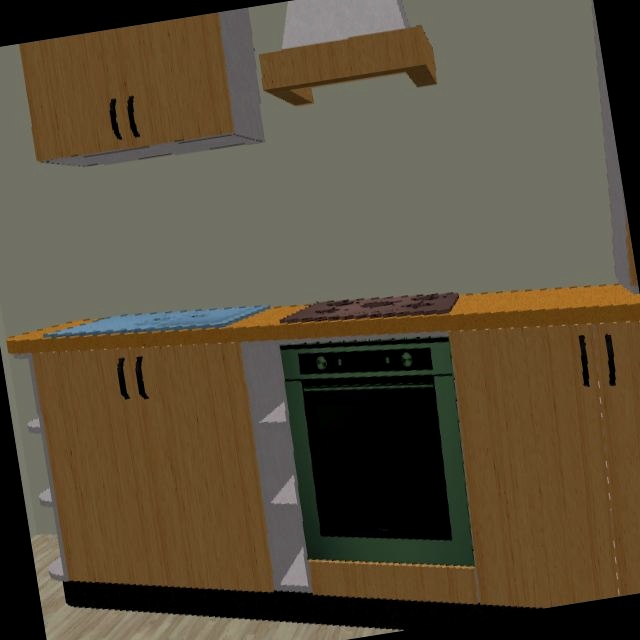cabinet: (31, 322, 640, 629), (21, 8, 265, 163)
countertop: (7, 284, 640, 354)
oven: (281, 336, 473, 565)
stove: (282, 293, 458, 322)
